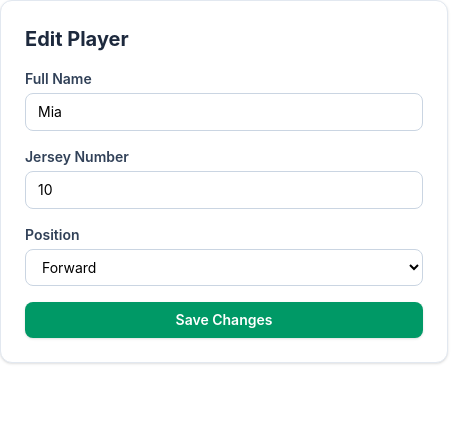
Test: PlayerForm › submits player update and shows a success message
Check: the number field with placeholder "e.g., 10" holds "10", box x1=25 y1=171 x2=423 y2=209
Check: the dropdown shows "Forward", box x1=25 y1=249 x2=423 y2=286
# make updates
Replace the text in the field with placeholder "e.g., Lionel Messi" with "Mia123" at (224, 112), box x1=25 y1=93 x2=423 y2=131
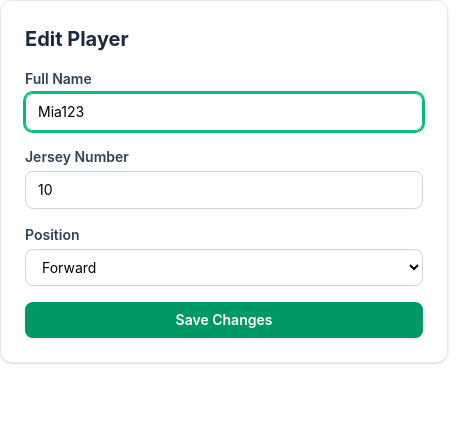
Replace the text in the number field with placeholder "e.g., 10" with "11" at (224, 190), box x1=25 y1=171 x2=423 y2=209
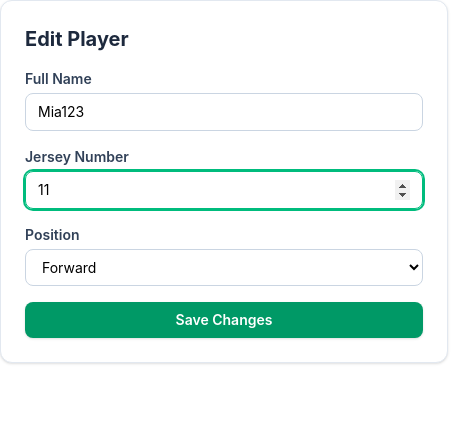
Select "Defender" in the dropdown at (224, 268), box x1=25 y1=249 x2=423 y2=286
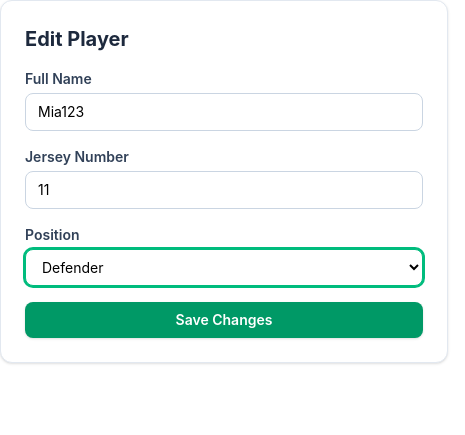
Click the button "Save Changes" at (224, 320), box x1=25 y1=302 x2=423 y2=338
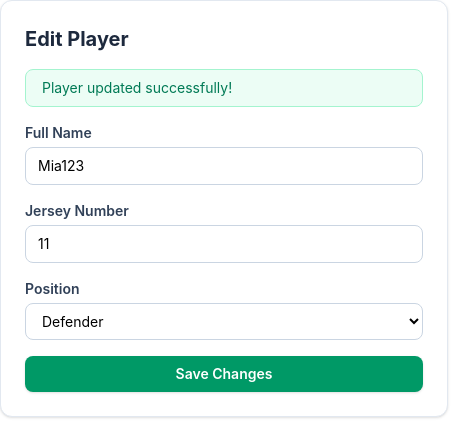
Check: the text "Player updated successfully!" is shown, box x1=25 y1=69 x2=423 y2=107
